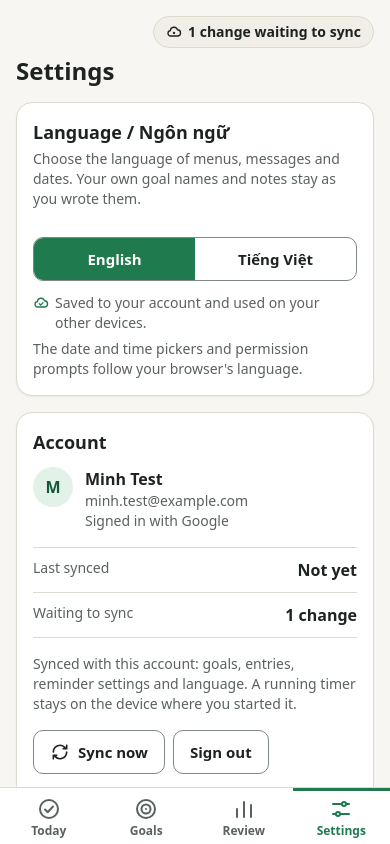
Scenario: Settings — signed-in copy (M7-AC15, DESIGN S7) › Sync now → cycle runs, toast "Everything is up to date", Last synced "today at …", indicator synced
Expected: the text with test id "pending-count" reads "1 change", left=285, top=604, right=357, bottom=626
Click the button with test id "sync-now" at (99, 752), box left=33, top=730, right=165, bottom=774
(page scrolled)
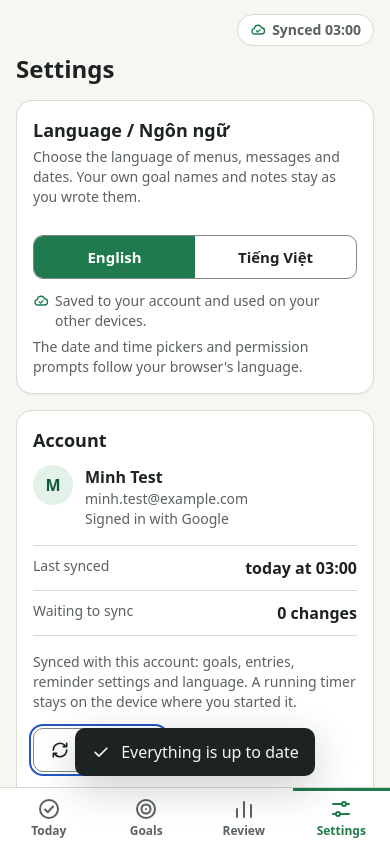
Expected: the element with test id "toast" reads "Everything is up to date", left=121, top=741, right=299, bottom=763
Expected: the text with test id "pending-count" reads "0 changes", left=277, top=602, right=357, bottom=624
Expected: the text with test id "last-synced" reads "today at 03:00", left=245, top=557, right=357, bottom=579
